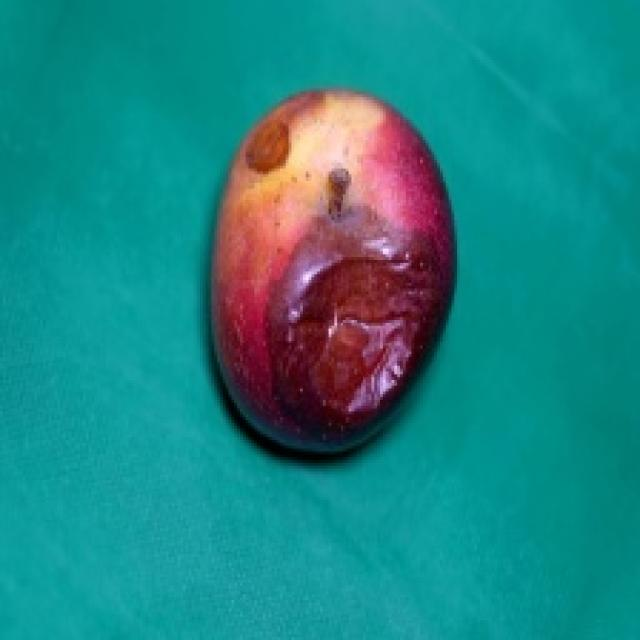rotten_apple: (214, 96, 453, 453)
